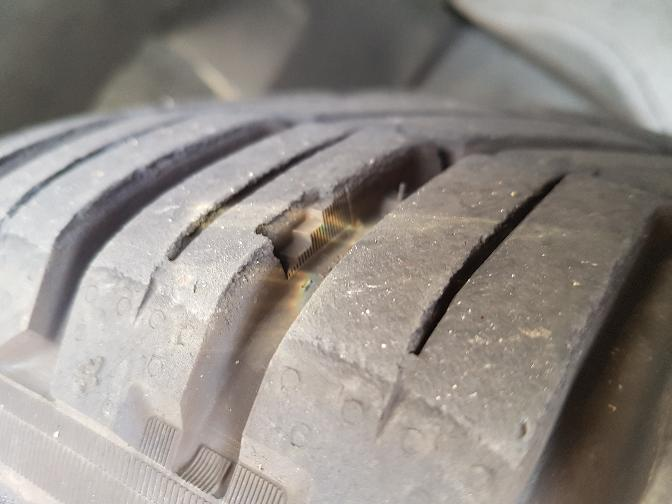temoin:90: (246, 171, 367, 287)
